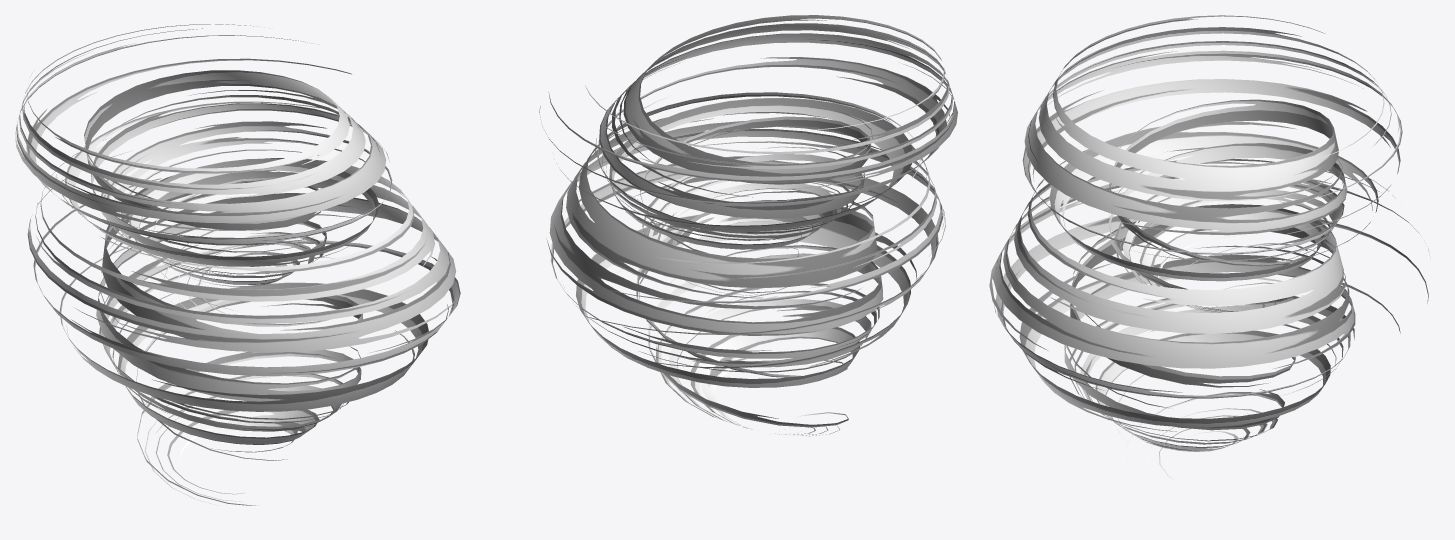
The model's file is eff_trail_15.FBX.
3 renders of one model, left to right at view 1: azimuth 30°, elevation 25°; view 2: azimuth 150°, elevation 25°; view 3: azimuth 270°, elevation 25°, orthographic. The views are drawn at different scales.
Visible parts, largest first — view 1: eff_trail_15; view 2: eff_trail_15; view 3: eff_trail_15.
Part boxes in pixels (box(x1,y1,x2,y2)): eff_trail_15: box(15, 24, 460, 505); eff_trail_15: box(539, 15, 957, 436); eff_trail_15: box(989, 15, 1430, 479).
Size of the model in its own units: 250 by 286 by 264.
1 material, 1 textured.
